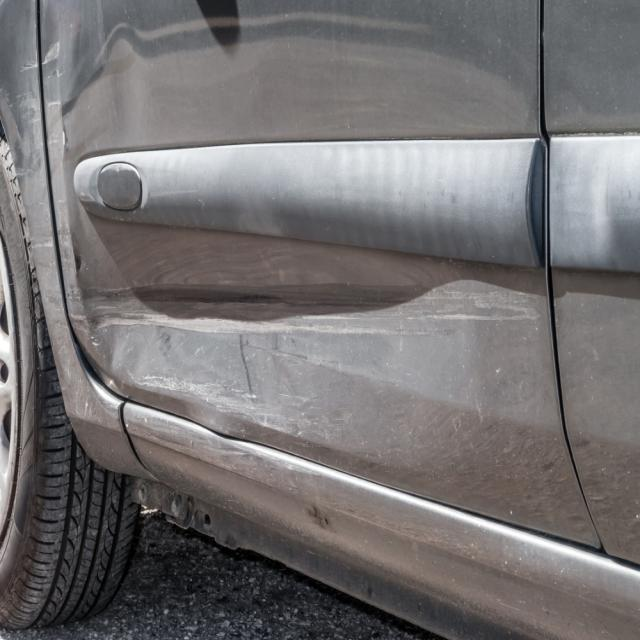crack: (118, 402, 161, 482)
dent: (79, 225, 461, 455)
